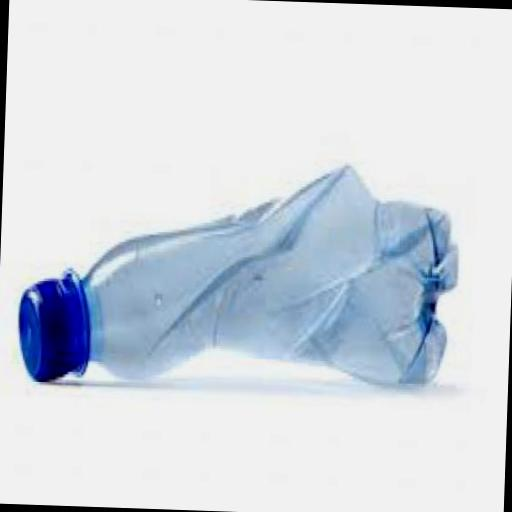plastic: (14, 148, 461, 394), (12, 263, 85, 383)
